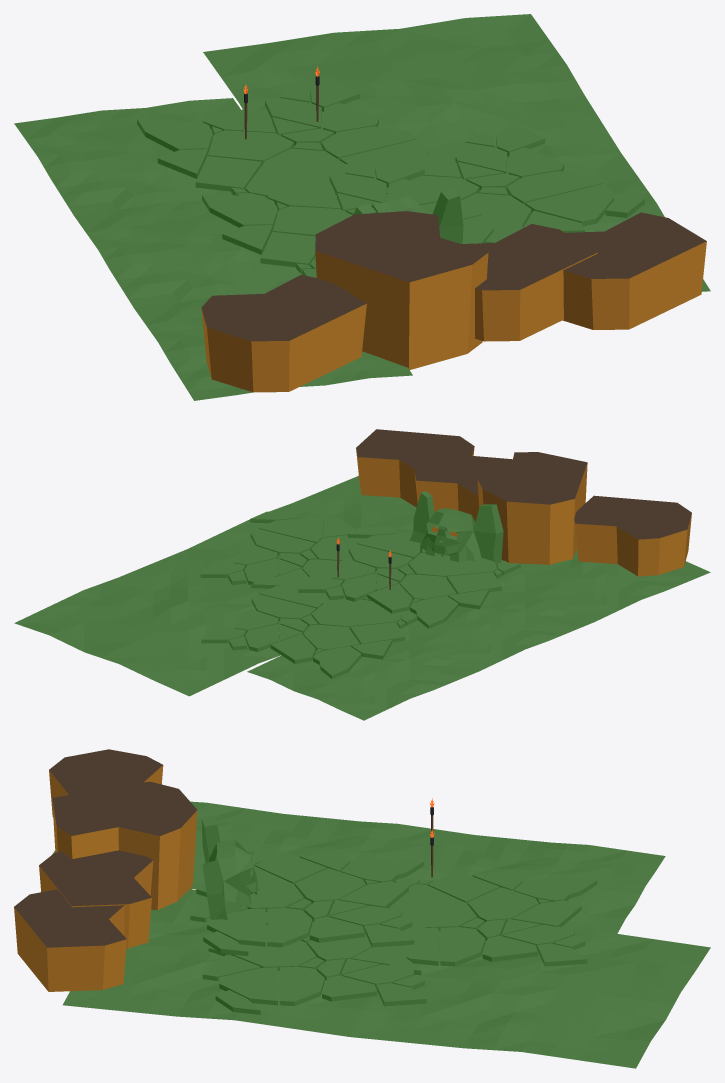
The picture shows the model from 3 angles, top to bottom: view 1: azimuth 30°, elevation 25°; view 2: azimuth 150°, elevation 25°; view 3: azimuth 270°, elevation 25°; orthographic projection. The views are drawn at different scales.
Visible parts, largest first — view 1: -mesh; view 2: -mesh; view 3: -mesh.
Boxes of the visible parts, x1,y1,x2,y2 form: -mesh: [14, 14, 710, 400]; -mesh: [14, 429, 710, 720]; -mesh: [14, 749, 710, 1068].
Size of the model in its own units: 26.44 by 5.27 by 28.22.
